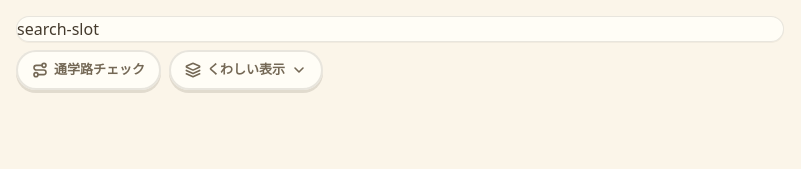
Test: MapTopOverlay › unfolds the other layers, each with an icon and a one-line description
The width and height of the screenshot is (801, 169).
Step 1. Click the button "くわしい表示" → x=246, y=70, box [169,50,323,90]
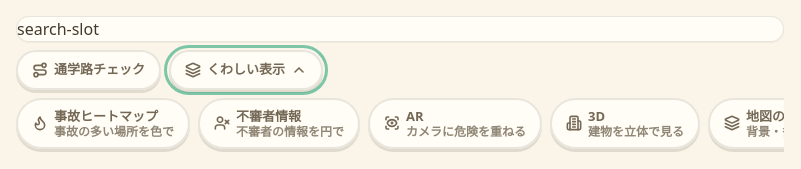
Expected: the button "くわしい表示" is expanded, [169,50,323,90]
Expected: the 4th icon is shown, [32,115,48,131]
Expected: the 5th icon is shown, [214,115,230,131]
